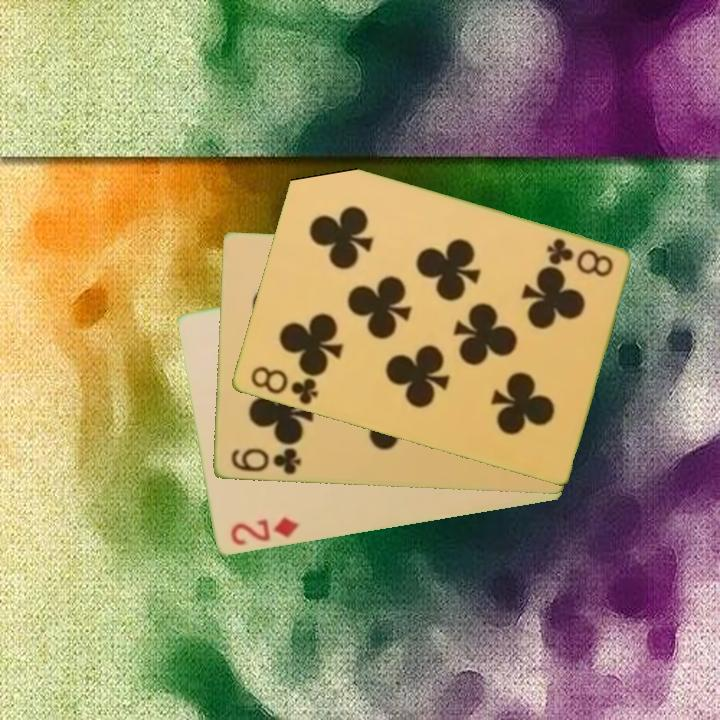2d: (226, 514, 302, 549)
6c: (227, 445, 304, 478)
8c: (246, 362, 321, 408), (542, 235, 616, 281)
